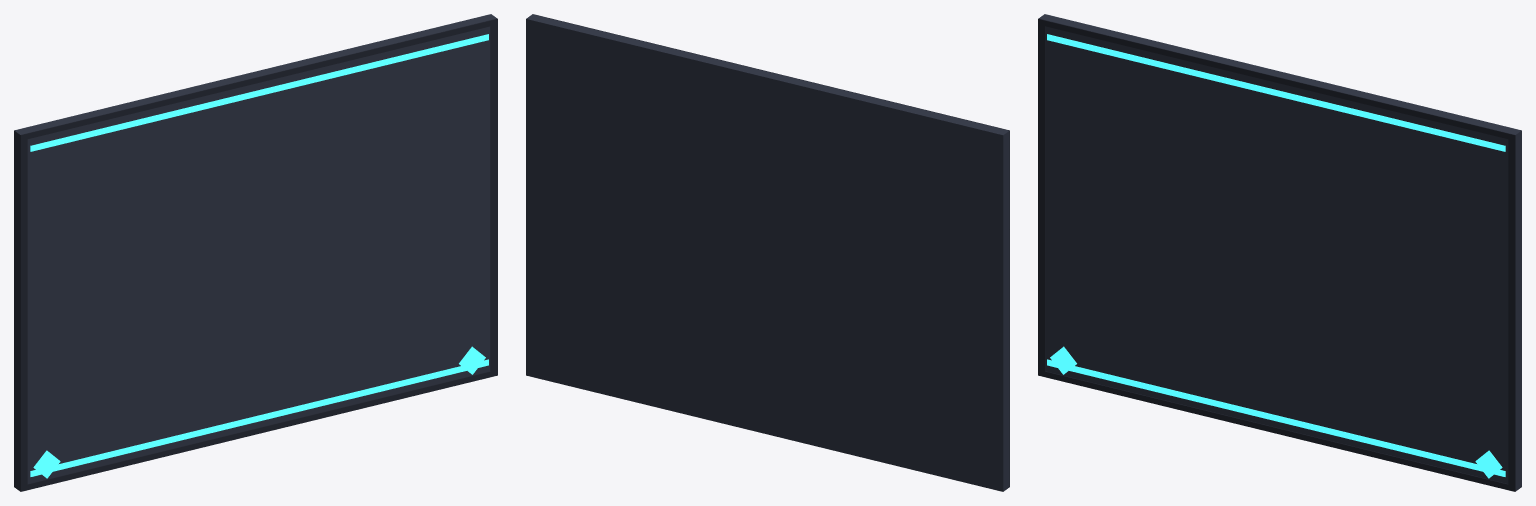
The model's file is paredservers.glb.
3 renders of one model, left to right at view 1: azimuth 30°, elevation 25°; view 2: azimuth 150°, elevation 25°; view 3: azimuth 330°, elevation 25°, orthographic.
Parts seen in each view (by area): view 1: Pared_Superficie, Pared_Marco, Pared_TirasNeon, Pared_Esquinas; view 2: Pared_Superficie, Pared_Marco; view 3: Pared_Superficie, Pared_Marco, Pared_TirasNeon, Pared_Esquinas.
Part boxes in pixels (bbox=[...]): Pared_Superficie: bbox=[14, 14, 496, 491]; Pared_Marco: bbox=[20, 18, 497, 491]; Pared_TirasNeon: bbox=[30, 34, 488, 476]; Pared_Esquinas: bbox=[33, 346, 485, 478]; Pared_Superficie: bbox=[526, 14, 1009, 491]; Pared_Marco: bbox=[532, 14, 1009, 486]; Pared_Superficie: bbox=[1039, 14, 1521, 491]; Pared_Marco: bbox=[1038, 18, 1515, 491]; Pared_TirasNeon: bbox=[1047, 34, 1505, 476]; Pared_Esquinas: bbox=[1050, 346, 1502, 478].
Size of the model in its own units: 350 by 250 by 9.25.
